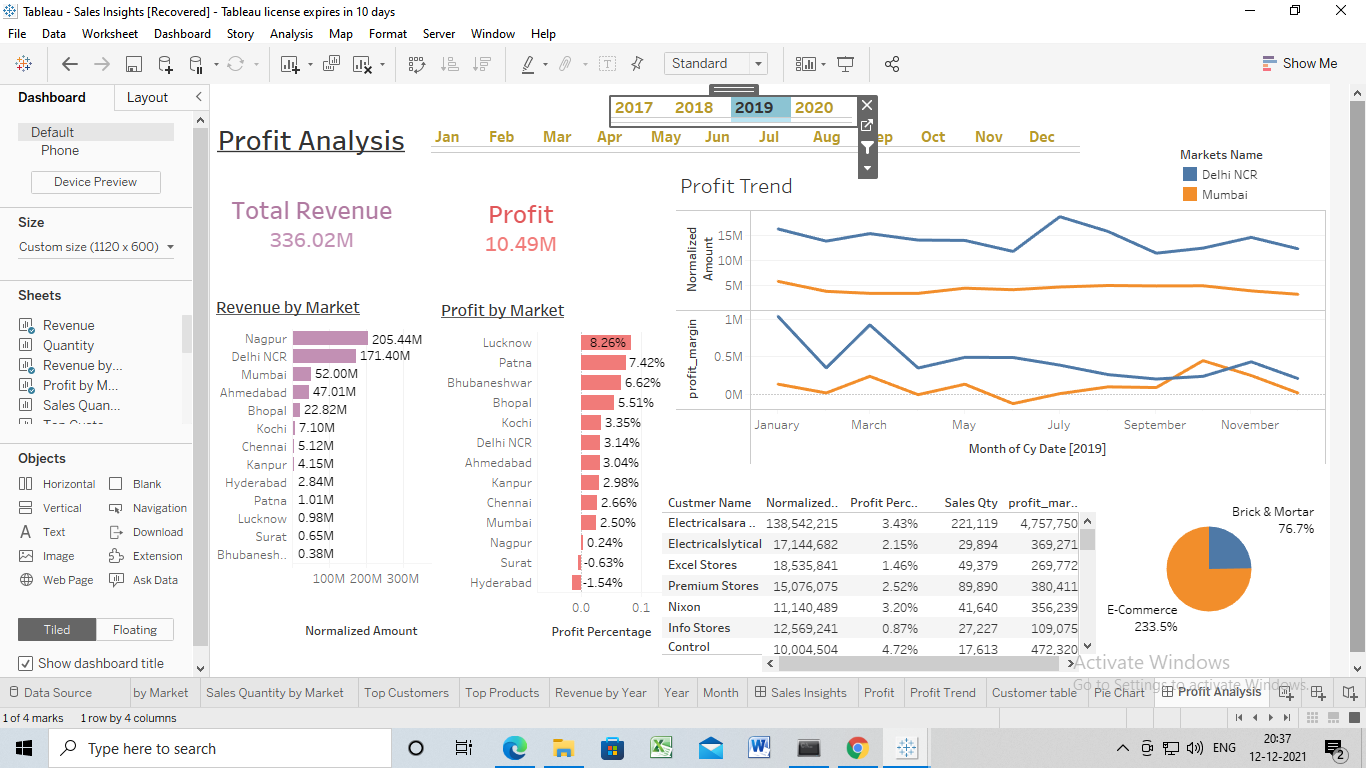

The dashboard page shown, as its layout file describes it:
{"tool":"tableau","page":{"name":"Profit Analysis","canvas":[1120,600],"ordinal":0},"visuals":[{"type":"title","box":[5,13,195,84]},{"type":"worksheet","title":"Year","mark":"Automatic","cols":["cy_date"],"box":[401.2,13,245.4,29]},{"type":"worksheet","title":"Month","mark":"Automatic","cols":["cy_date"],"box":[220.9,42,664.9,29]},{"type":"legend","title":"Profit Trend","param":"[federated.1wrotgx1kiv2ew12km91h0g3ou01].[none:markets_name:nk]","box":[970,62,140,58]},{"type":"worksheet","title":"Profit Trend","mark":"Bar","rows":["Calculation_901001447928795136","sales_qty"],"cols":["cy_date"],"box":[466,83,650,298]},{"type":"worksheet","title":"Revenue","mark":"Automatic","box":[12.2,108,184.3,61]},{"type":"worksheet","title":"Profit","mark":"Automatic","box":[261,112,102,68]},{"type":"worksheet","title":"Revenue by Market","mark":"Automatic","rows":["markets_name"],"cols":["Calculation_901001447928795136"],"box":[2,208,219.9,381]},{"type":"worksheet","title":"Profit by Market","mark":"Automatic","rows":["markets_name"],"cols":["Calculation_541839377881427968"],"box":[227,211,229,365]},{"type":"worksheet","title":"Pie Chart","mark":"Pie","box":[893,400,212,170]},{"type":"worksheet","title":"Customer table","mark":"Automatic","rows":["custmer_name"],"box":[452,408,434,180]}]}

Visuals, with their boxes on the page's 1120x600 design canvas (x1, y1, x2, y2). These are canvas units, not pixel positions in the 1366x768 screenshot, which may show the page scaled, cropped or inside an application window:
title: 5:13:200:97
"Year" worksheet: 401:13:647:42
"Month" worksheet: 221:42:886:71
"Profit Trend" legend: 970:62:1110:120
"Profit Trend" worksheet (Bar marks): 466:83:1116:381
"Revenue" worksheet: 12:108:196:169
"Profit" worksheet: 261:112:363:180
"Revenue by Market" worksheet: 2:208:222:589
"Profit by Market" worksheet: 227:211:456:576
"Pie Chart" worksheet (Pie marks): 893:400:1105:570
"Customer table" worksheet: 452:408:886:588
